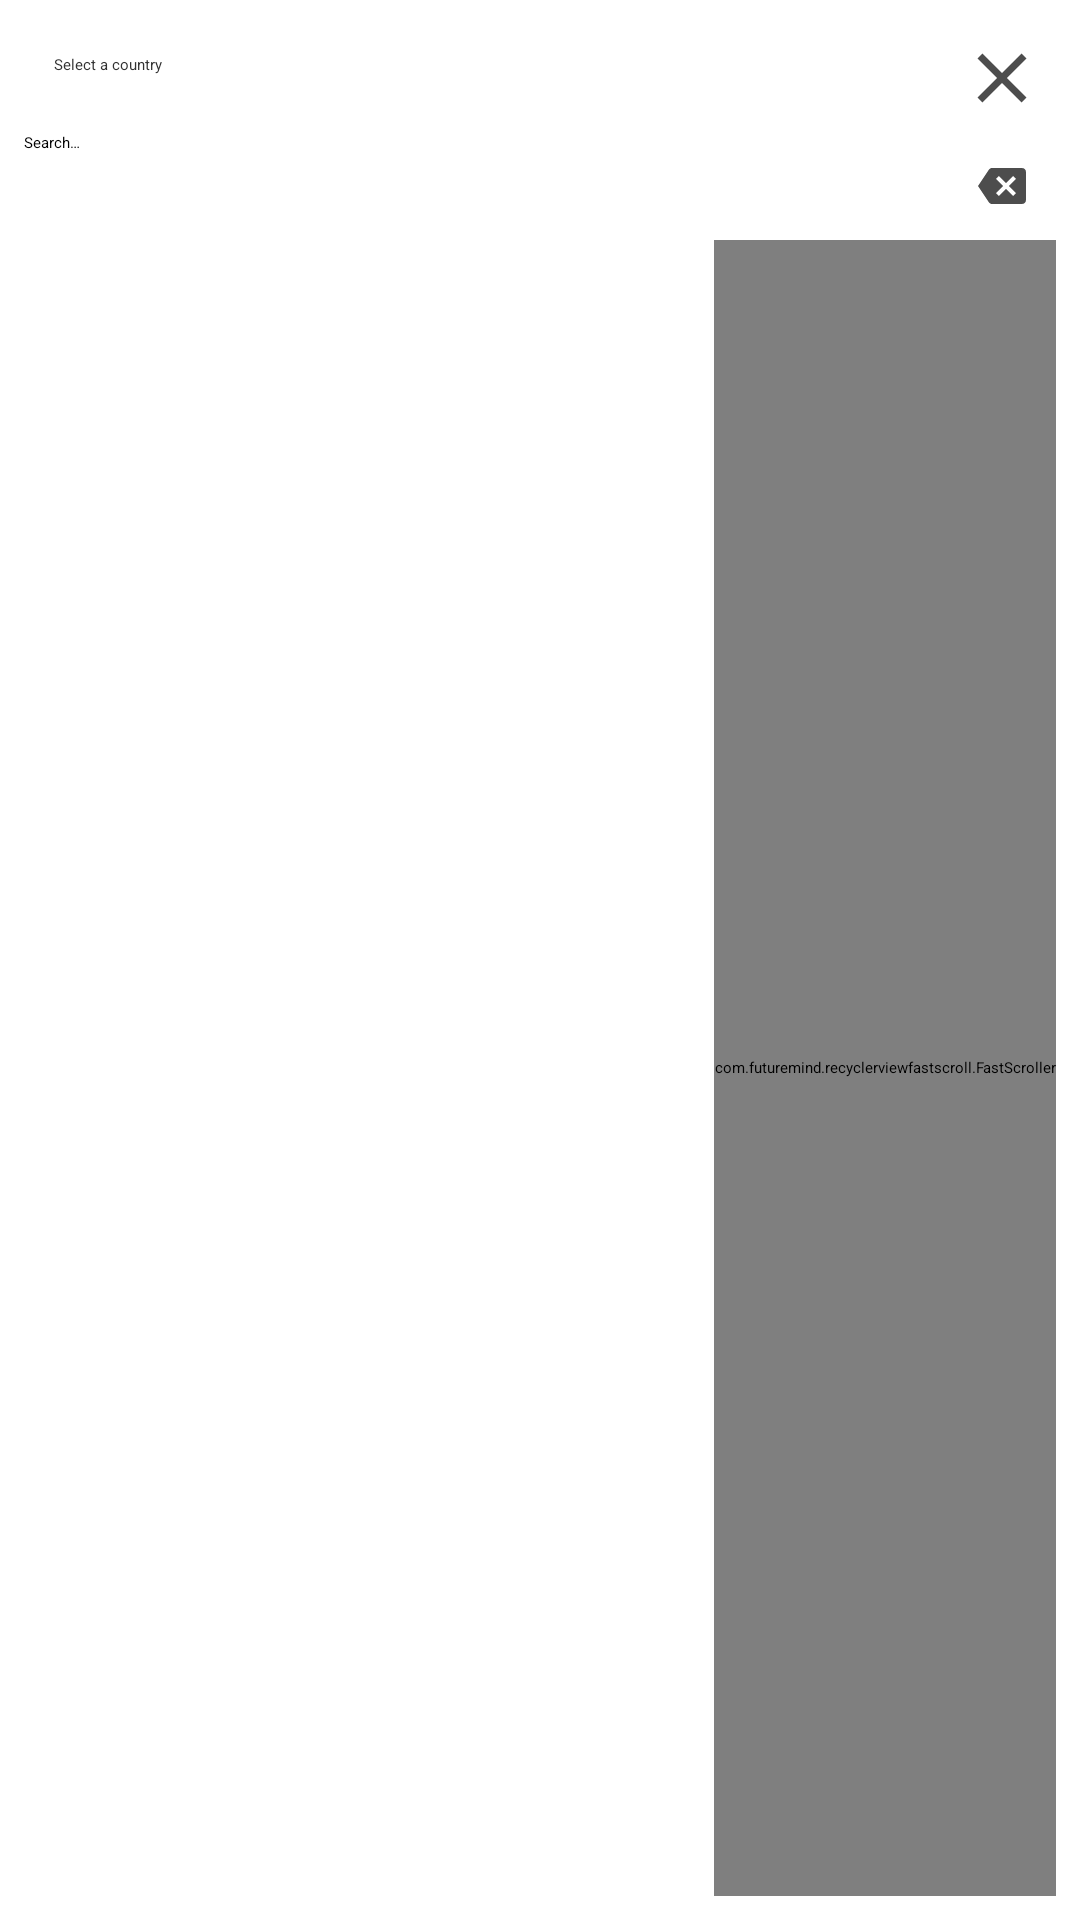

Where to tap for icons on this 1080 x 1920 app screen, as point (x, y):
Dismiss: point (1002, 78)
